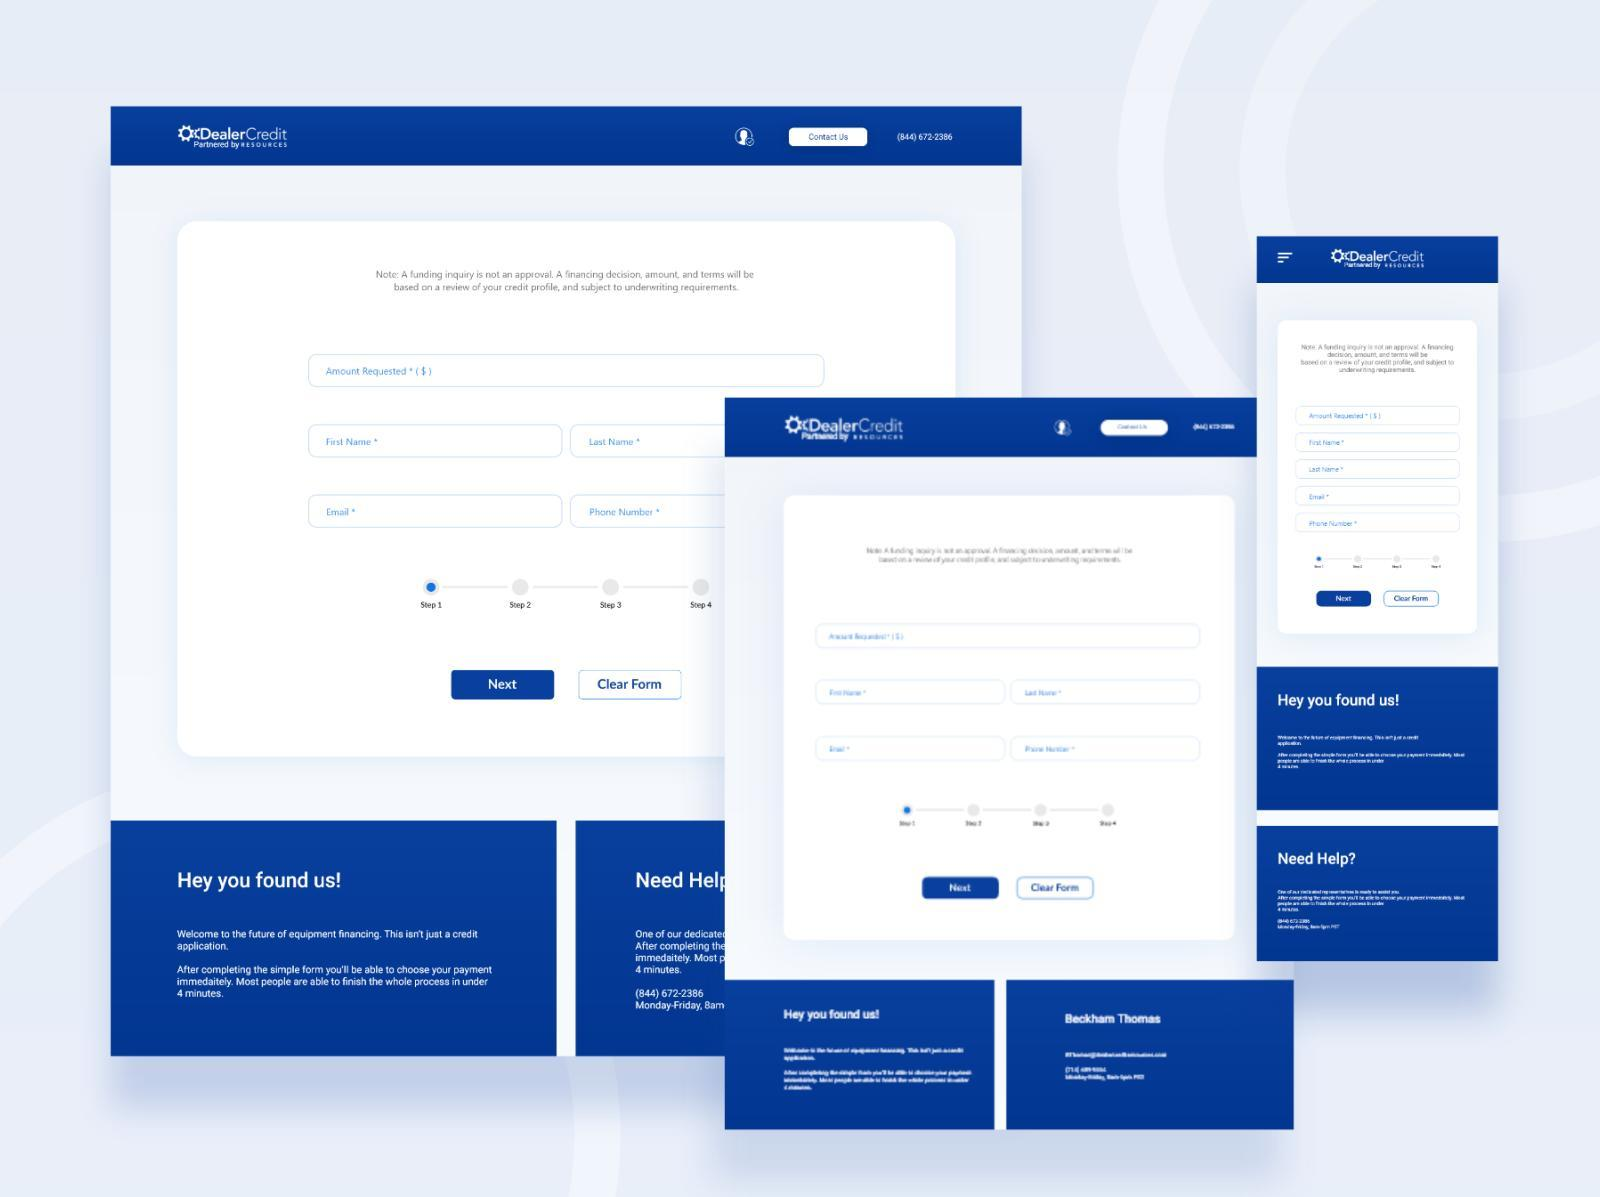button: (579, 670, 682, 702), (451, 671, 556, 700), (923, 875, 1000, 902), (1018, 878, 1093, 902), (791, 130, 868, 148), (1104, 417, 1169, 438), (1384, 591, 1440, 609), (1316, 593, 1373, 609)
icon: (1276, 250, 1297, 267)
input: (310, 355, 825, 387), (816, 624, 1202, 651), (307, 493, 564, 531), (310, 424, 563, 456), (571, 494, 726, 531), (1011, 736, 1202, 764), (816, 736, 1005, 763), (817, 679, 1005, 707), (571, 424, 726, 456), (1011, 679, 1202, 705), (1296, 459, 1462, 480), (1295, 433, 1460, 453), (1296, 406, 1460, 426), (1296, 514, 1460, 533), (1296, 489, 1462, 505)
